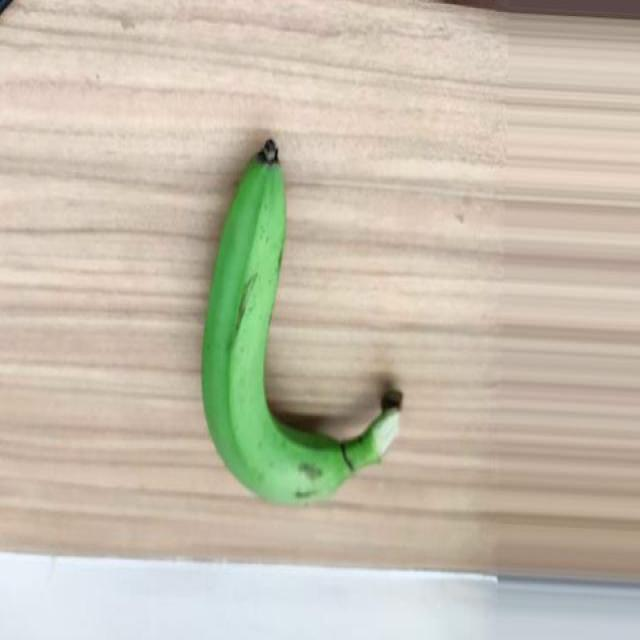Unripe: (200, 140, 401, 508)
